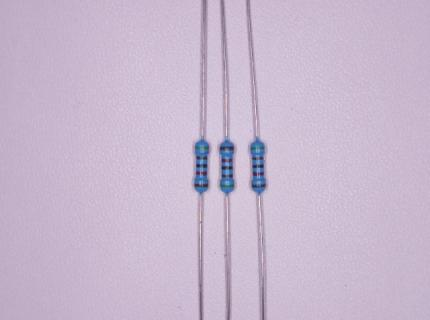Black band: (196, 164, 207, 168), (222, 166, 232, 170), (253, 165, 264, 168)
Brown band: (194, 183, 208, 187), (220, 146, 234, 150), (252, 184, 265, 188), (222, 174, 233, 178), (196, 156, 207, 159), (252, 157, 263, 160)
Green band: (195, 146, 208, 149), (221, 184, 234, 187), (250, 147, 265, 149)
Red band: (253, 171, 264, 175), (196, 171, 207, 175), (221, 159, 233, 162)
